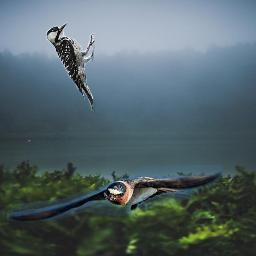Swallow: (7, 165, 223, 221)
Woodpecker: (45, 22, 97, 114)
